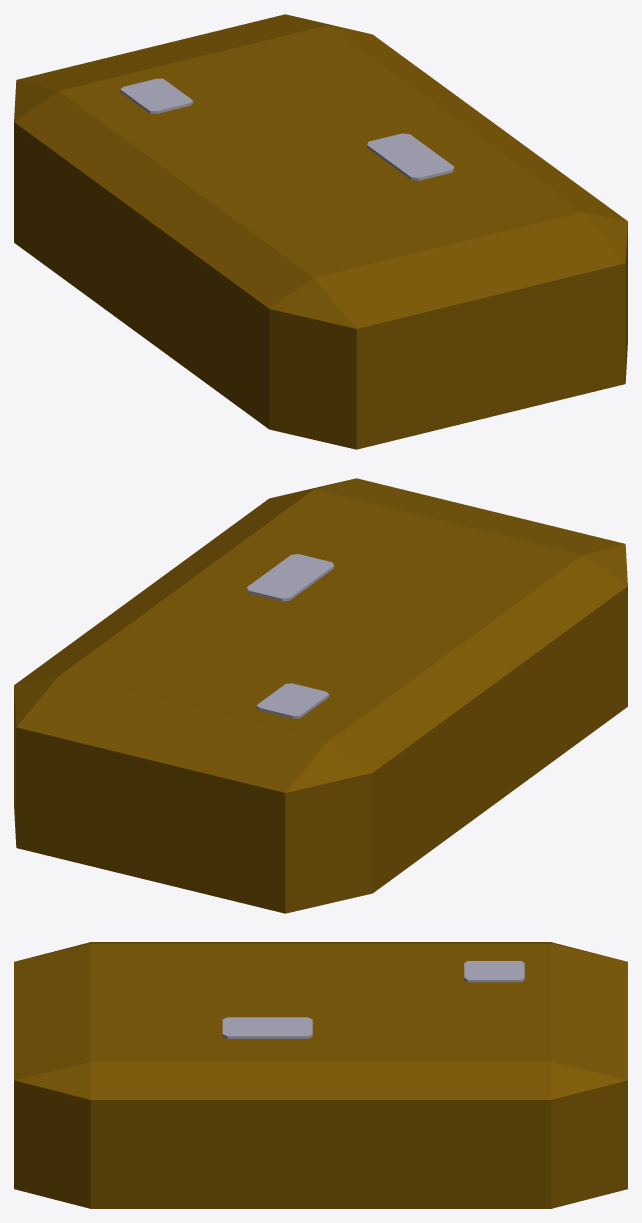
Rendered from Route_terre_construct.fbx.
3 views of the same model, one above another, from view 1: azimuth 30°, elevation 25°; view 2: azimuth 150°, elevation 25°; view 3: azimuth 270°, elevation 25° (orthographic). The views are drawn at different scales.
Parts seen in each view (by area): view 1: block_rounded_39, floor_half_42, floor_half_43; view 2: block_rounded_39, floor_half_42, floor_half_43; view 3: block_rounded_39, floor_half_42, floor_half_43.
Part boxes in pixels (x1=…): block_rounded_39: x1=14, y1=14, x2=627, y2=449; floor_half_42: x1=367, y1=133, x2=454, y2=180; floor_half_43: x1=120, y1=78, x2=193, y2=113; block_rounded_39: x1=14, y1=478, x2=627, y2=913; floor_half_42: x1=246, y1=554, x2=334, y2=601; floor_half_43: x1=256, y1=683, x2=329, y2=718; block_rounded_39: x1=14, y1=942, x2=627, y2=1208; floor_half_42: x1=222, y1=1017, x2=312, y2=1038; floor_half_43: x1=464, y1=961, x2=524, y2=982.
Bounding box in the file's own units: 14 × 6.1 × 23.
